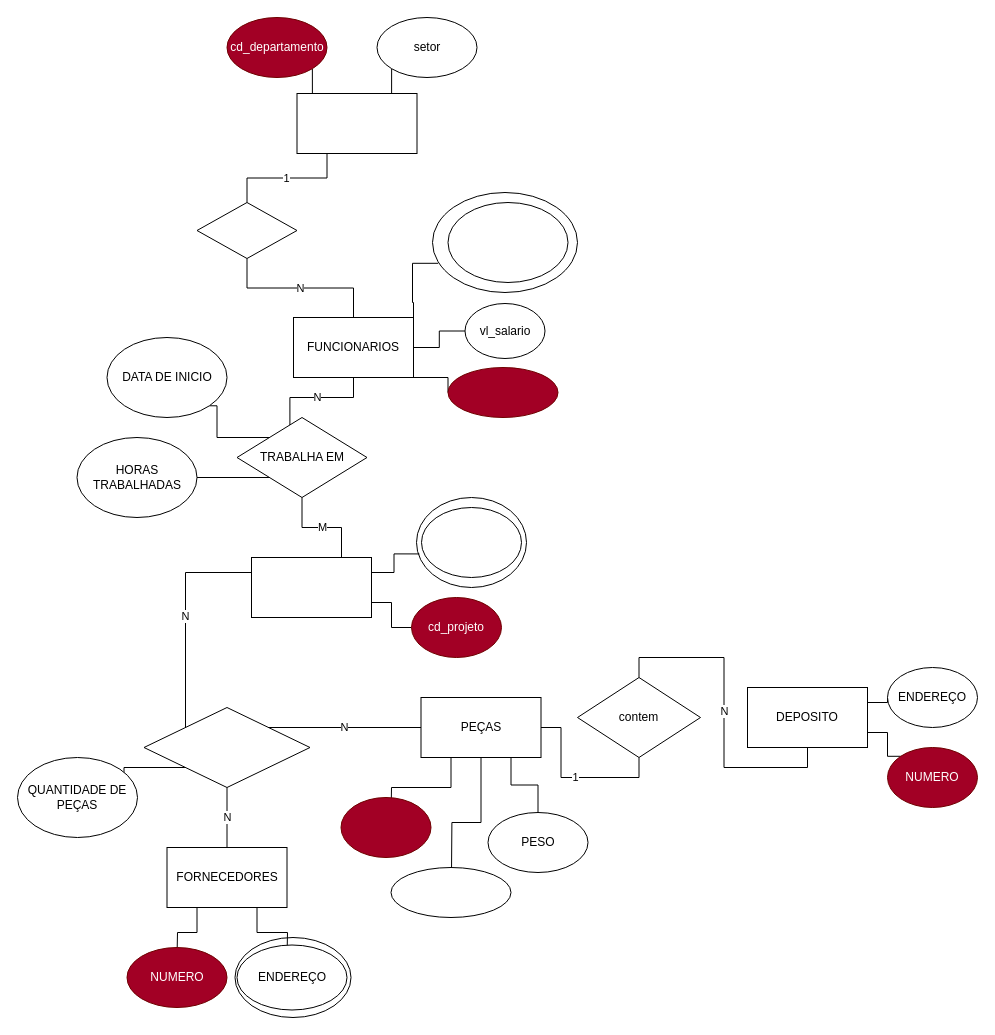
The diagram is 995 pixels wide and 1035 high, and some of its shapes have lost their labels. The shapes that lost their labels are listed below. From the top down, each one's box as (x1, y1, x2, y2) in pixels, then its label:
(296, 92, 417, 154): DEPARTAMENTO
(196, 202, 297, 258): TEM
(447, 202, 568, 282): TELEFONE
(447, 366, 558, 418): cd_funcionario
(420, 506, 522, 578): ORÇAMENTO
(250, 556, 372, 618): PROJETOS
(143, 706, 310, 788): ITENS
(340, 796, 431, 858): cd_peças
(390, 866, 511, 918): COR
